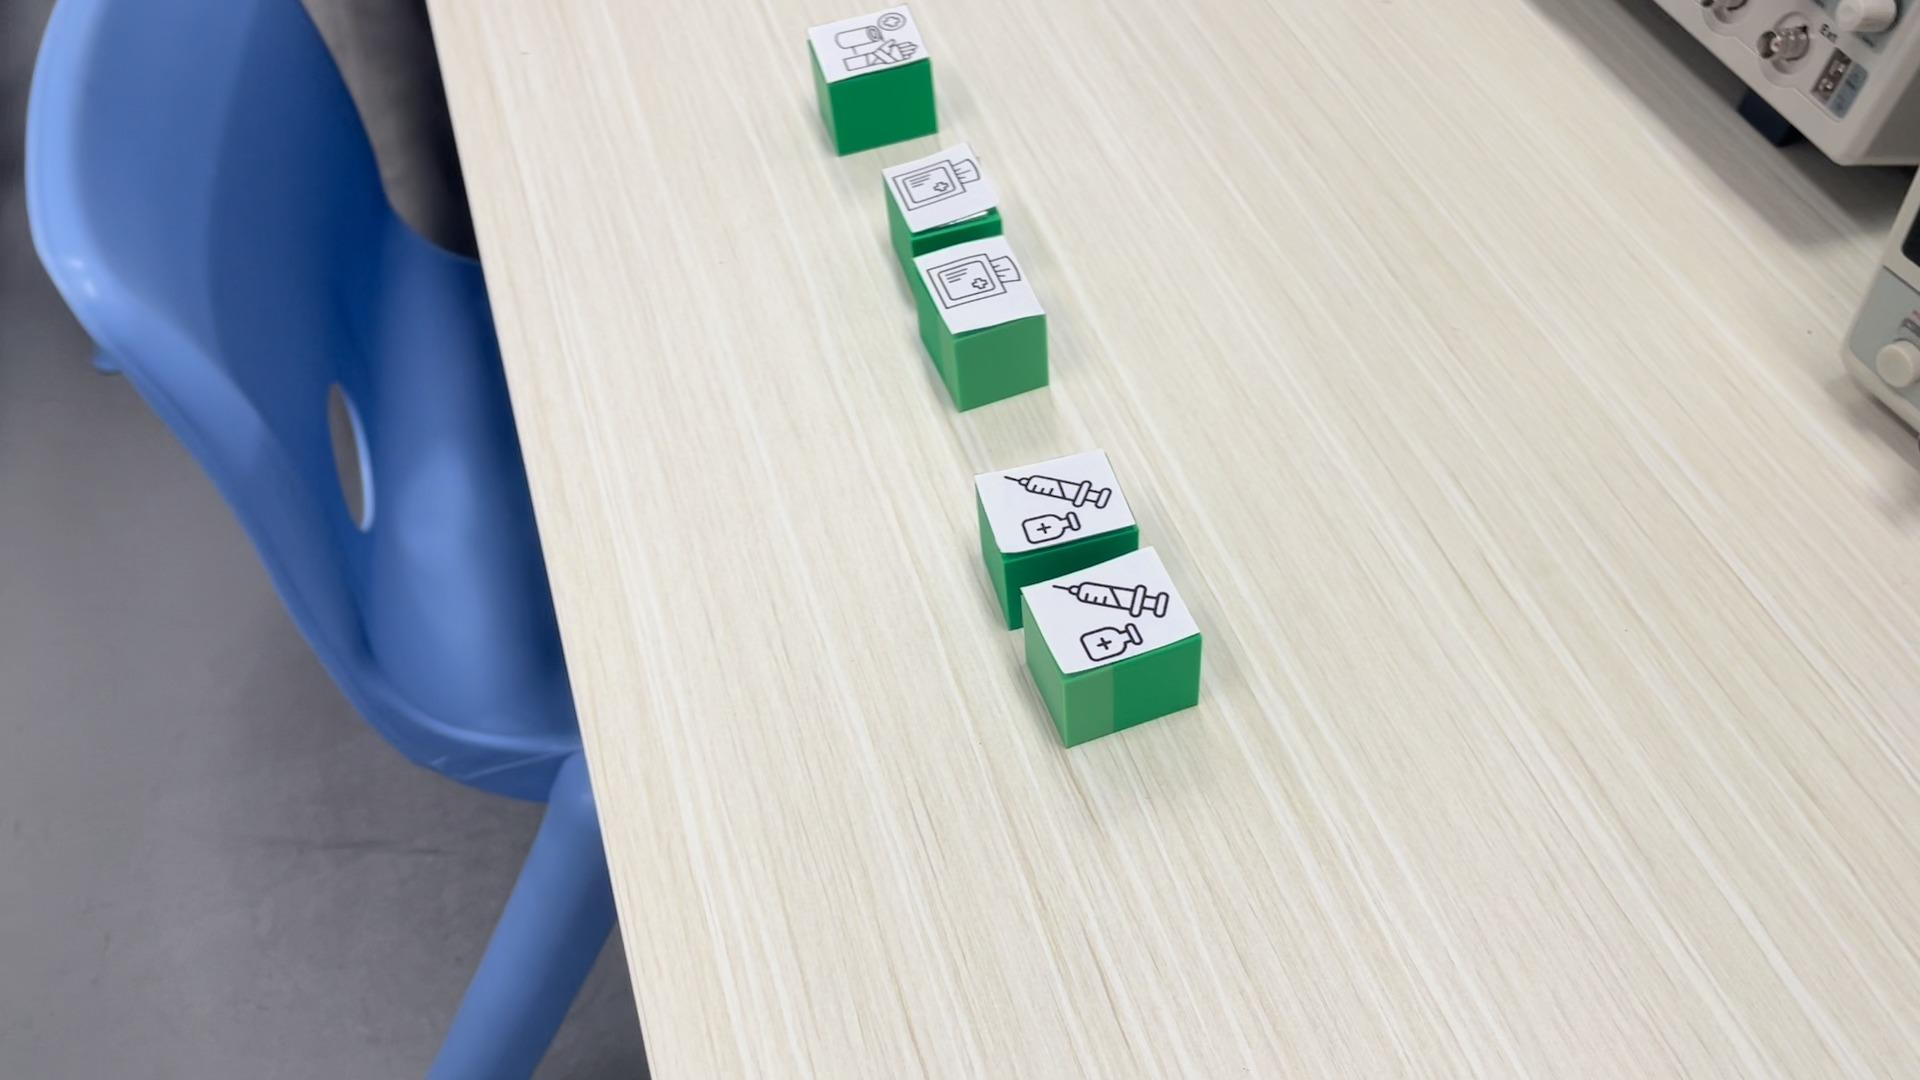Bandages: (804, 5, 939, 156)
Gauze: (910, 231, 1050, 413), (885, 144, 1002, 247)
antiseptic cream: (1022, 543, 1204, 748), (975, 448, 1141, 578)
